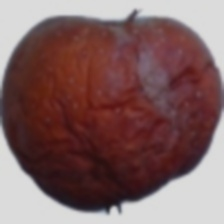apple: (31, 31, 168, 220)
